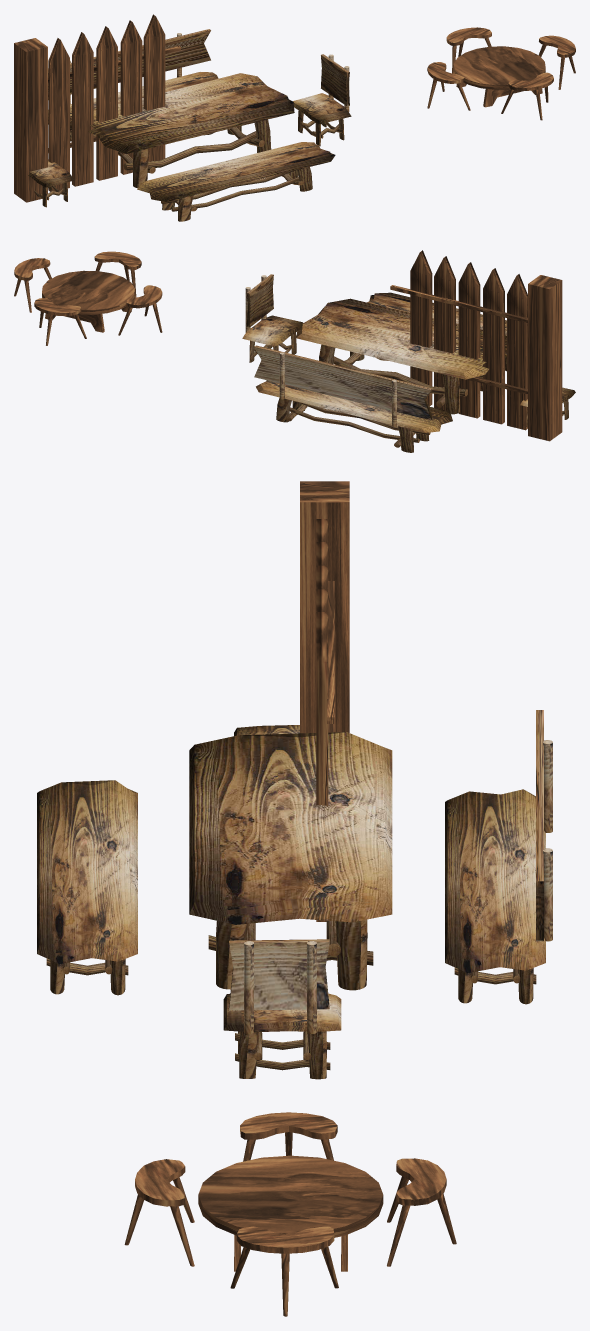
The model's file is Wooden fence - type 2 (1).fbx.
The picture shows the model from 3 angles, top to bottom: view 1: azimuth 30°, elevation 25°; view 2: azimuth 150°, elevation 25°; view 3: azimuth 270°, elevation 25°; orthographic projection. The views are drawn at different scales.
Visible parts, largest first — view 1: pCube18, masa, peika_bez_oblegalka, pCube5, Wooden_Table, stol_s_oblegalka, peika_s_oblegalka, stol_bez_oblegalka, Wooden_Chair2, Wooden_Chair3, Wooden_Chair4, Wooden_Chair; view 2: pCube18, peika_s_oblegalka, masa, pCube5, Wooden_Table, stol_s_oblegalka, Wooden_Chair, peika_bez_oblegalka, Wooden_Chair3, Wooden_Chair4, Wooden_Chair2, stol_bez_oblegalka; view 3: masa, peika_s_oblegalka, peika_bez_oblegalka, stol_s_oblegalka, Wooden_Table, pCube5, pCube18, Wooden_Chair4, Wooden_Chair, Wooden_Chair2, Wooden_Chair3.
Part boxes in pixels (<box>): pCube18: <box>48,14,180,191</box>; masa: <box>88,73,294,187</box>; peika_bez_oblegalka: <box>137,142,335,221</box>; pCube5: <box>14,38,47,202</box>; Wooden_Table: <box>453,46,545,107</box>; stol_s_oblegalka: <box>293,54,351,146</box>; peika_s_oblegalka: <box>48,29,218,141</box>; stol_bez_oblegalka: <box>28,159,74,207</box>; Wooden_Chair2: <box>501,72,553,120</box>; Wooden_Chair3: <box>427,62,470,110</box>; Wooden_Chair4: <box>538,35,575,89</box>; Wooden_Chair: <box>446,27,491,73</box>; pCube18: <box>390,250,527,430</box>; peika_s_oblegalka: <box>254,345,452,452</box>; masa: <box>296,298,506,414</box>; pCube5: <box>528,275,562,441</box>; Wooden_Table: <box>42,270,134,332</box>; stol_s_oblegalka: <box>242,274,302,362</box>; Wooden_Chair: <box>34,298,86,345</box>; peika_bez_oblegalka: <box>367,292,506,371</box>; Wooden_Chair3: <box>118,285,162,335</box>; Wooden_Chair4: <box>14,258,51,312</box>; Wooden_Chair2: <box>94,251,141,297</box>; stol_bez_oblegalka: <box>520,387,575,426</box>; masa: <box>189,732,392,990</box>; peika_s_oblegalka: <box>445,710,552,1004</box>; peika_bez_oblegalka: <box>37,780,137,995</box>; stol_s_oblegalka: <box>223,939,341,1079</box>; Wooden_Table: <box>198,1155,383,1271</box>; pCube5: <box>300,481,349,733</box>; pCube18: <box>316,519,334,921</box>; Wooden_Chair4: <box>230,1226,338,1316</box>; Wooden_Chair: <box>387,1158,456,1266</box>; Wooden_Chair2: <box>124,1159,194,1266</box>; Wooden_Chair3: <box>240,1112,337,1161</box>.
Size of the model in its own units: 1363 by 361 by 558.
Materials: 2 (2 with a texture image).
